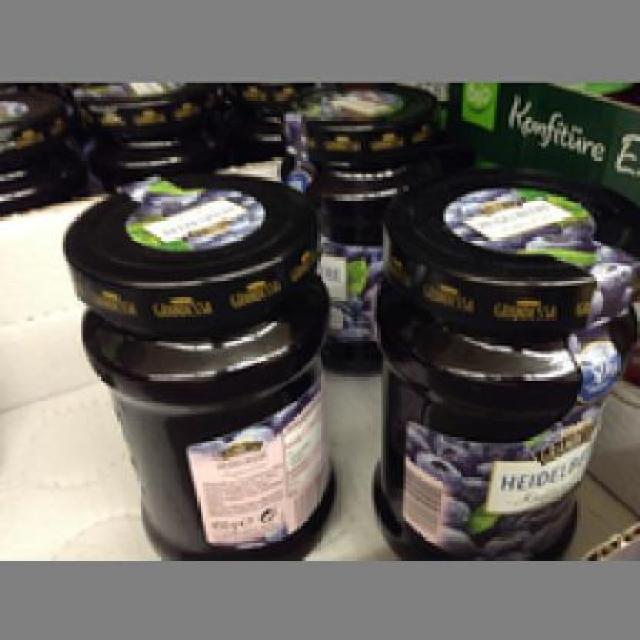Jam: (63, 168, 334, 554), (369, 168, 620, 558), (277, 83, 437, 374)
